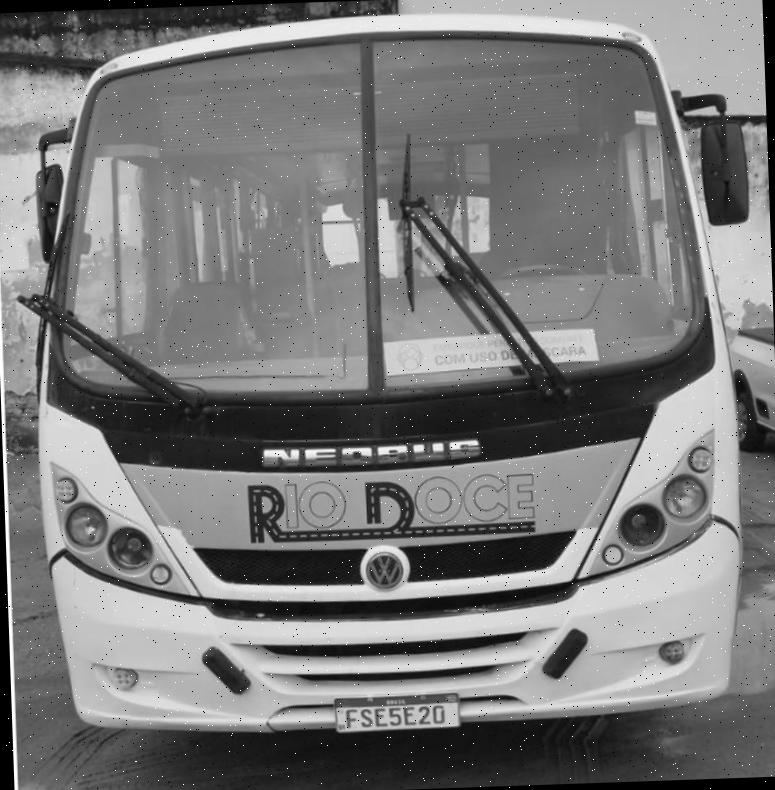placa_mercosul: (334, 693, 460, 732)
